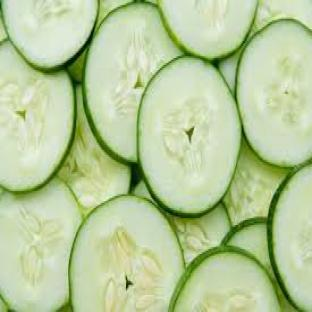Cucumber: (138, 57, 241, 216), (83, 2, 180, 161), (70, 197, 183, 311), (0, 41, 76, 192), (236, 19, 311, 167), (0, 180, 81, 311), (59, 86, 130, 214), (170, 248, 280, 311), (268, 164, 311, 311), (224, 140, 287, 225), (167, 203, 231, 264), (223, 219, 274, 279), (218, 50, 241, 93), (132, 181, 154, 201), (0, 11, 6, 40), (0, 297, 7, 311)
